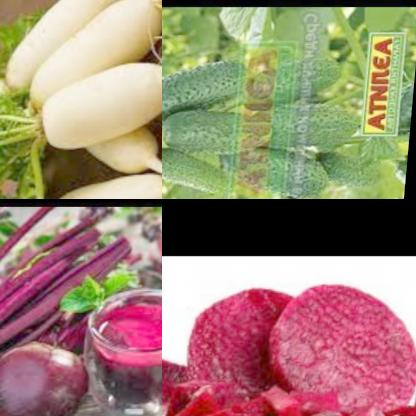beet: (269, 282, 416, 416), (182, 281, 301, 394), (162, 368, 416, 416), (0, 337, 90, 416), (100, 290, 162, 394), (162, 350, 190, 409)
cucumber: (162, 46, 265, 125), (232, 52, 351, 112), (162, 100, 273, 148), (250, 152, 359, 199), (259, 102, 365, 150), (162, 141, 244, 191)
redka: (26, 0, 162, 112), (5, 0, 150, 96), (37, 63, 162, 154), (89, 129, 162, 177), (35, 172, 162, 199)
